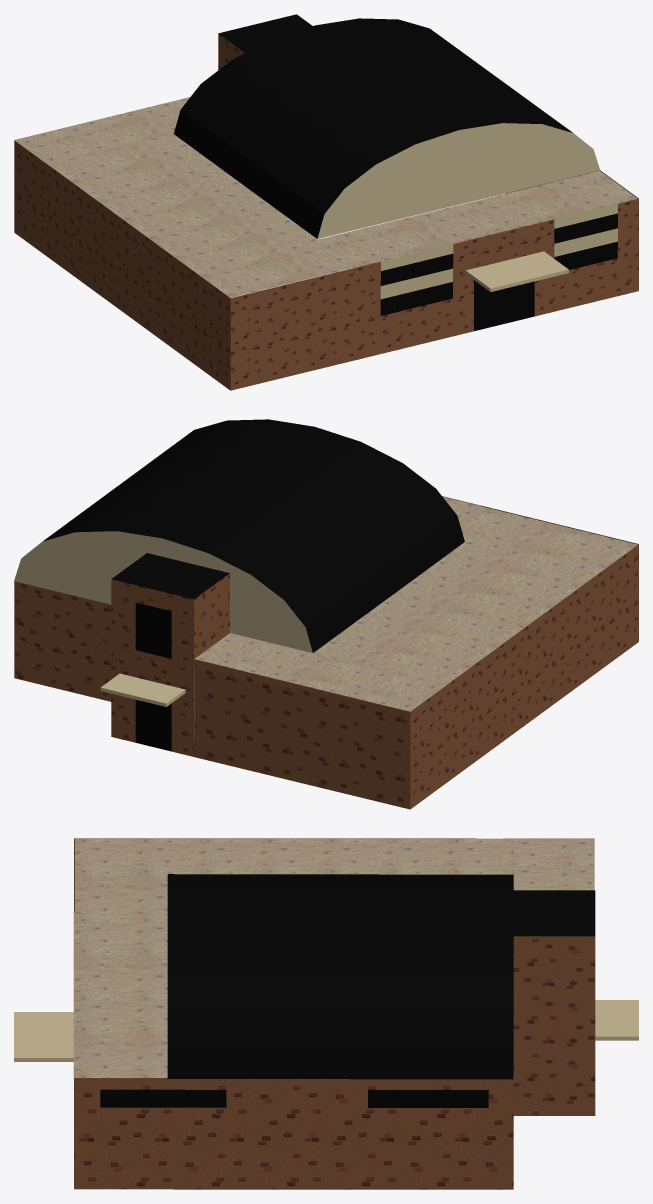
The model's file is tyler.obj.
The picture shows the model from 3 angles, top to bottom: view 1: azimuth 30°, elevation 25°; view 2: azimuth 150°, elevation 25°; view 3: azimuth 270°, elevation 25°; orthographic projection. The views are drawn at different scales.
Parts seen in each view (by area): view 1: Cylinder; view 2: Cylinder; view 3: Cylinder.
Part boxes in pixels (x1,y1,x2,y2): Cylinder: (14,14,638,390); Cylinder: (14,419,638,809); Cylinder: (14,838,638,1189).
Size of the model in its own units: 5.74 by 2.24 by 6.31.
Materials: 5 (4 with a texture image).
